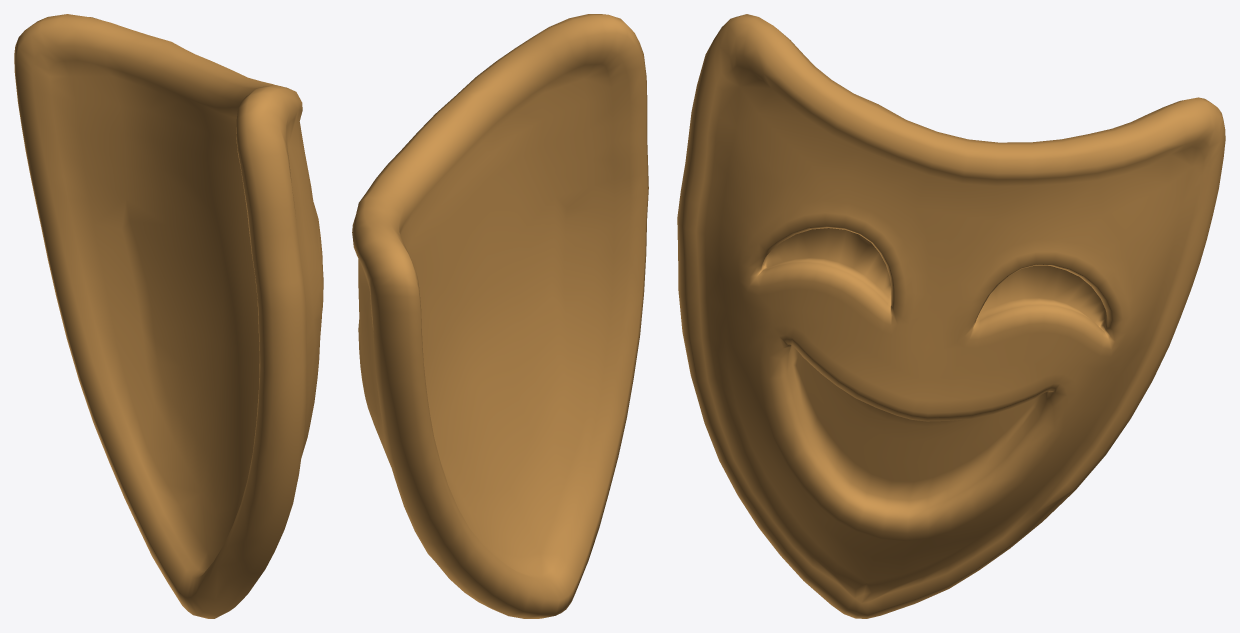
File: SM_Menu_ComedyMask.fbx
3 renders of one model, left to right at view 1: azimuth 30°, elevation 25°; view 2: azimuth 150°, elevation 25°; view 3: azimuth 270°, elevation 25°, orthographic. The views are drawn at different scales.
Parts seen in each view (by area): view 1: MaskHappy.001_Baked; view 2: MaskHappy.001_Baked; view 3: MaskHappy.001_Baked.
Boxes of the visible parts, x1=… form: MaskHappy.001_Baked: x1=14, y1=14, x2=323, y2=618; MaskHappy.001_Baked: x1=352, y1=14, x2=648, y2=618; MaskHappy.001_Baked: x1=677, y1=14, x2=1225, y2=618.
Size of the model in its own units: 8.38 by 28.24 by 33.98.
